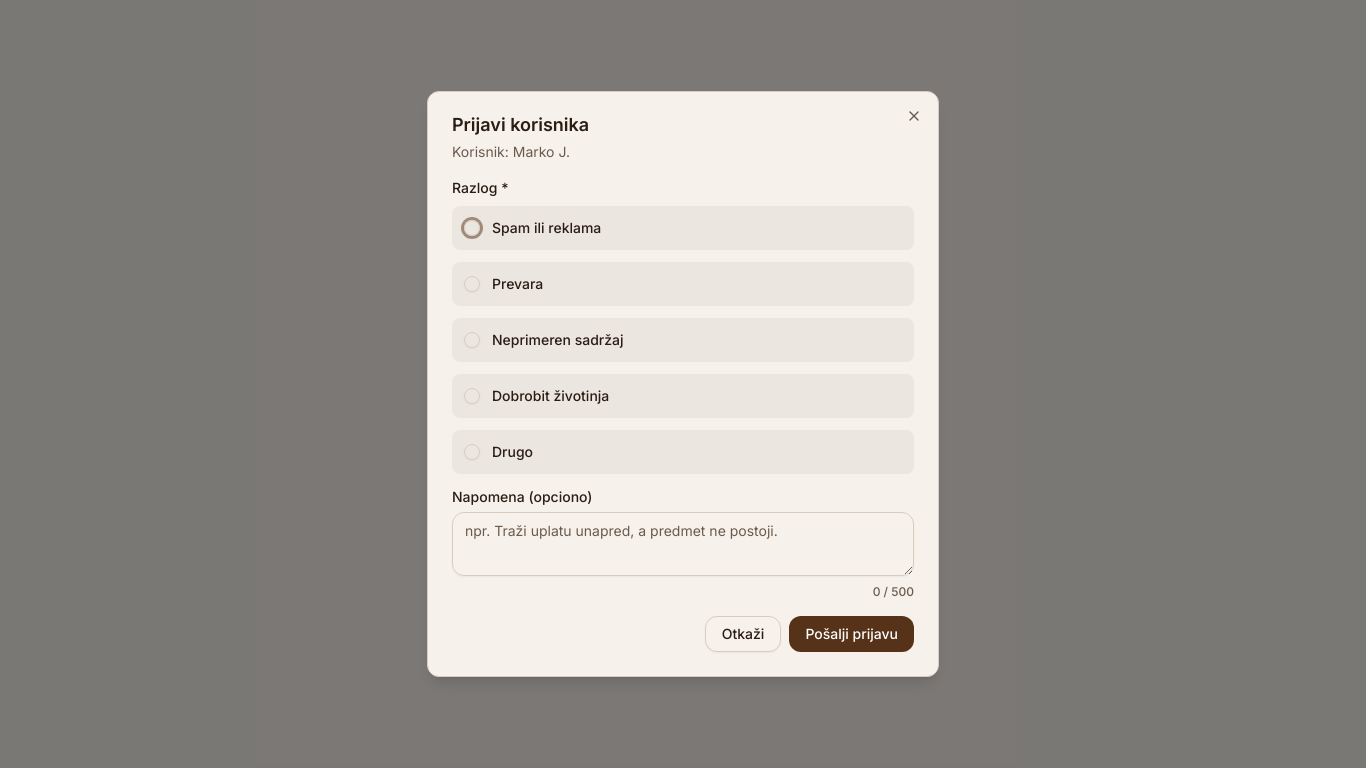
Test: ReportDialog › limits the note to 500 characters with a counter
Type "Traži novac" into the text box labelled "Napomena (opciono)" at (683, 544), box [452, 512, 914, 576]
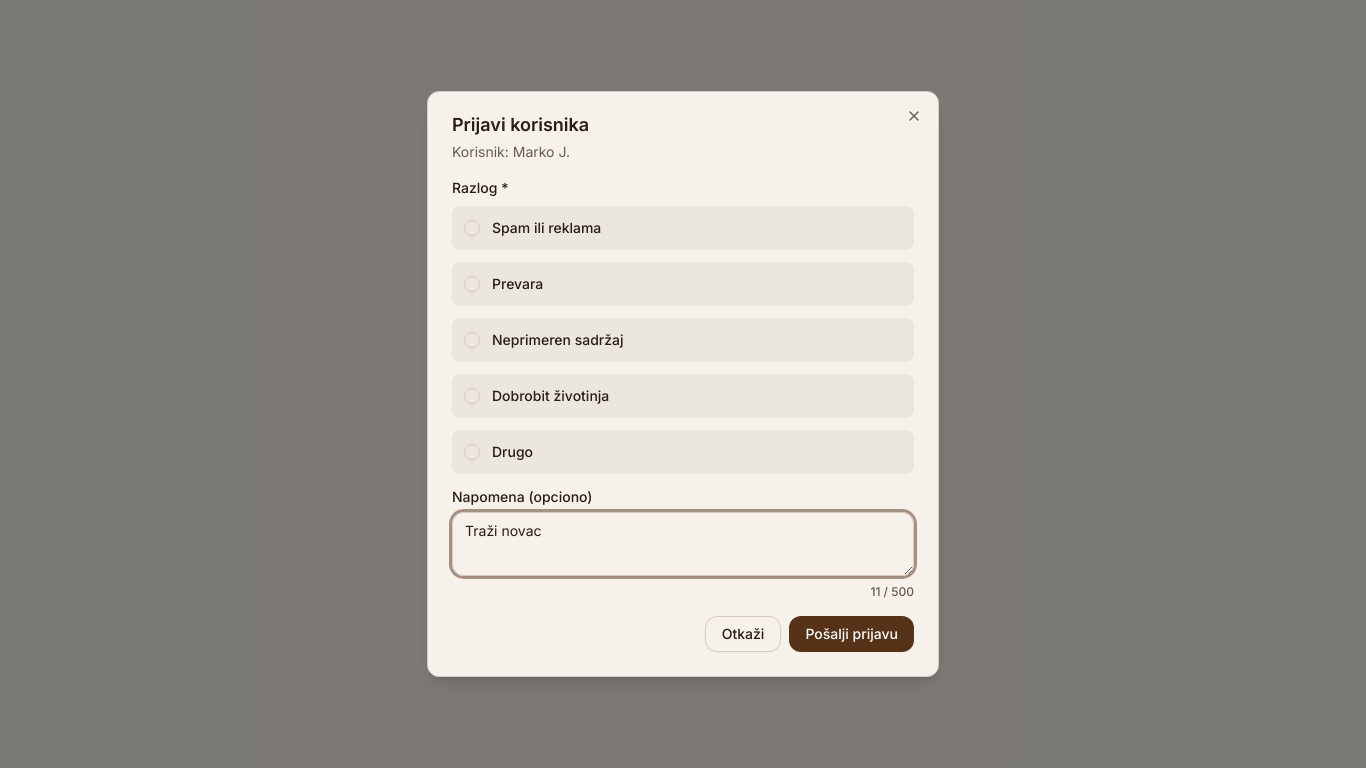
Expected: the text "11 / 500" is shown, [870, 584, 914, 599]
